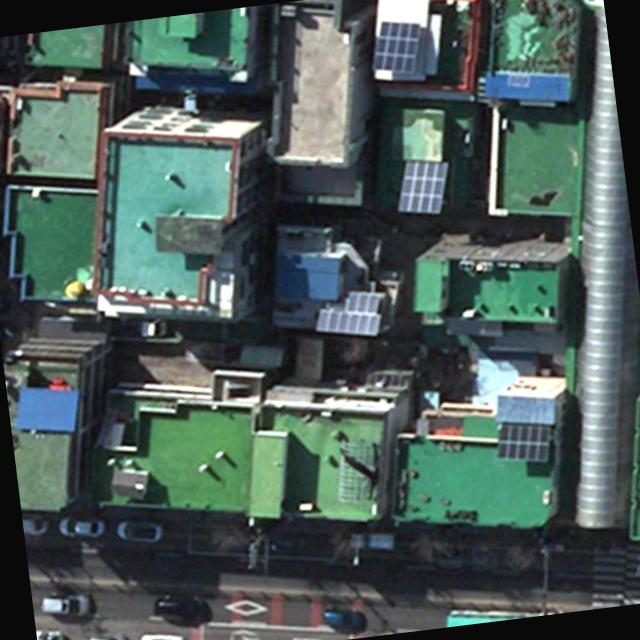solar: (310, 282, 386, 344), (389, 152, 456, 222), (366, 15, 429, 78), (492, 416, 558, 470)
